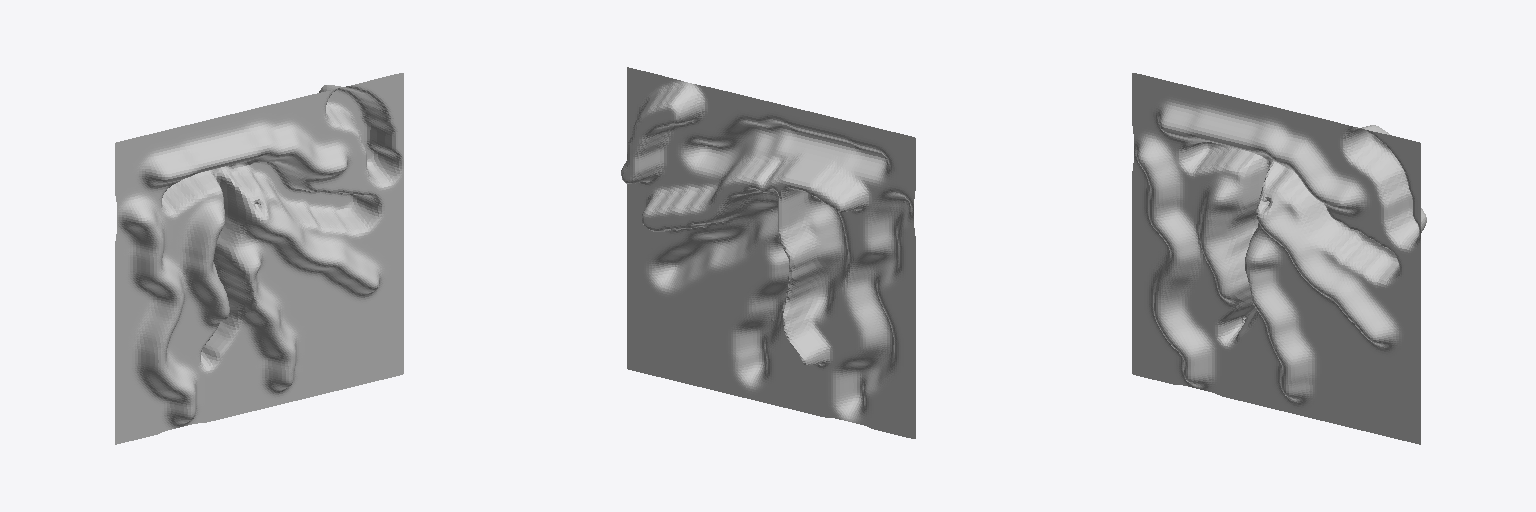
Rendered from testworld.obj.
The picture shows the model from 3 angles: view 1: azimuth 30°, elevation 25°; view 2: azimuth 150°, elevation 25°; view 3: azimuth 330°, elevation 25°; orthographic projection.
Parts seen in each view (by area): view 1: Plane; view 2: Plane; view 3: Plane.
Boxes of the visible parts, box(x1,y1,x2,y2) form: Plane: box(115, 73, 403, 444); Plane: box(621, 67, 915, 438); Plane: box(1132, 73, 1426, 444).
Size of the model in its own units: 48.59 by 48.59 by 8.64.